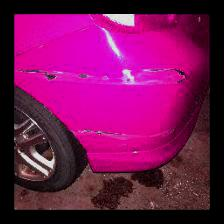bumper_scratch: (24, 64, 135, 94), (140, 51, 201, 100), (80, 120, 136, 147)
